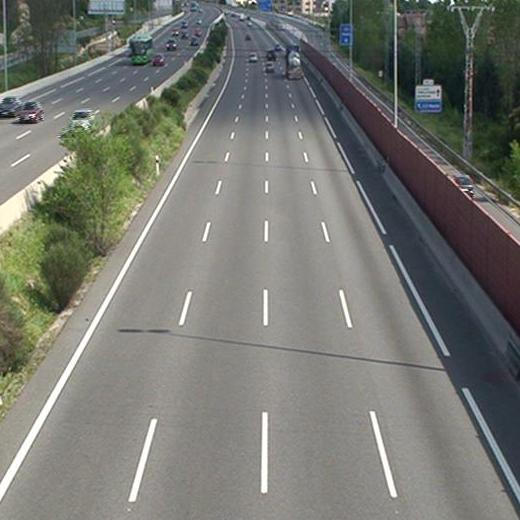car: (264, 61, 274, 71), (247, 50, 255, 61)
tank-truck: (284, 43, 302, 82)
